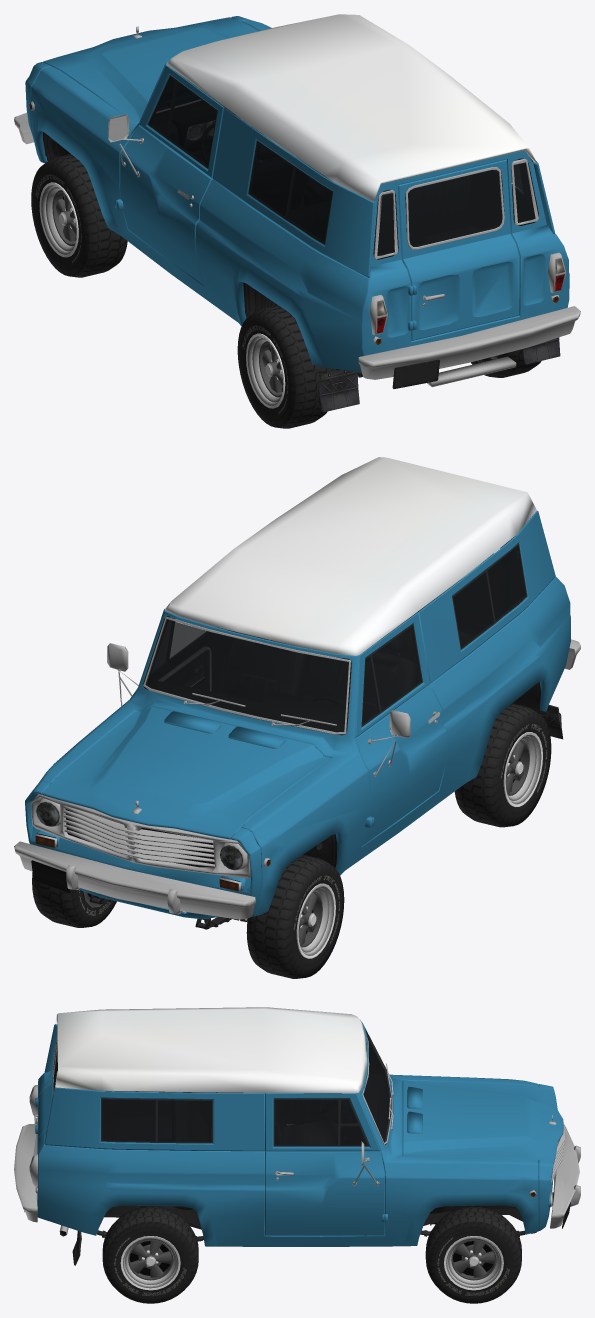
Rendered from car3_wagon_60s.glb.
3 renders of one model, top to bottom at view 1: azimuth 30°, elevation 25°; view 2: azimuth 150°, elevation 25°; view 3: azimuth 270°, elevation 25°, orthographic. The views are drawn at different scales.
Parts seen in each view (by area): view 1: Bokaroo67_Body_BUCKAROO_67_Bodymat_0, Bokaroo67_Bottom_UCB_BOTTOM_0, Bokaroo67_Interior_UCB_Interiors_2_0, Bokaroo67_Hood_BUCKAROO_67_Bodymat_0, Bokaroo67_WheelStock_RL_RO1a_Tire_0, Bokaroo67_WheelStock_FL_RO1a_Tire_0, Bokaroo67_Bodyglass_UCB_Lights_and_Glass_Transperent_0, Bokaroo67_Bumper_rear_UCB_BOTTOM_0, Bokaroo67_rear_door_glass_UCB_Lights_and_Glass_Transperent_0, Bokaroo67_Glass_Driver_UCB_Lights_and_Glass_Transperent_0, Bokaroo67_rear_door_inner_UCB_BOTTOM_0, Bokaroo67_WheelStock_RR_RO1a_Tire_0; view 2: Bokaroo67_Bottom_UCB_BOTTOM_0, Bokaroo67_Body_BUCKAROO_67_Bodymat_0, Bokaroo67_Hood_BUCKAROO_67_Bodymat_0, Bokaroo67_Interior_UCB_Interiors_2_0, Bokaroo67_Windshield_UCB_Lights_and_Glass_Transperent_0, Bokaroo67_WheelStock_FL_RO1a_Tire_0, Bokaroo67_WheelStock_RL_RO1a_Tire_0, Bokaroo67_Bumper_Front_UCB_BOTTOM_0, Bokaroo67_Bodyglass_UCB_Lights_and_Glass_Transperent_0, Bokaroo67_Glass_Driver_UCB_Lights_and_Glass_Transperent_0, Bokaroo67_rear_door_doorcard_UCB_Interiors_2_0, Bokaroo67_WheelStock_FR_RO1a_Tire_0 (+1 smaller); view 3: Bokaroo67_Body_BUCKAROO_67_Bodymat_0, Bokaroo67_Bottom_UCB_BOTTOM_0, Bokaroo67_Hood_BUCKAROO_67_Bodymat_0, Bokaroo67_Interior_UCB_Interiors_2_0, Bokaroo67_WheelStock_RR_RO1a_Tire_0, Bokaroo67_WheelStock_FR_RO1a_Tire_0, Bokaroo67_Bodyglass_UCB_Lights_and_Glass_Transperent_0, Bokaroo67_Glass_Passenger_UCB_Lights_and_Glass_Transperent_0, Bokaroo67_Bumper_Front_UCB_BOTTOM_0, Bokaroo67_Windshield_UCB_Lights_and_Glass_Transperent_0, Bokaroo67_Bumper_rear_UCB_BOTTOM_0.
Part boxes in pixels (x1,y1,x2,y2): Bokaroo67_Body_BUCKAROO_67_Bodymat_0: (25, 16, 569, 372); Bokaroo67_Bottom_UCB_BOTTOM_0: (29, 14, 566, 412); Bokaroo67_Interior_UCB_Interiors_2_0: (151, 101, 538, 259); Bokaroo67_Hood_BUCKAROO_67_Bodymat_0: (43, 17, 258, 123); Bokaroo67_WheelStock_RL_RO1a_Tire_0: (237, 305, 333, 428); Bokaroo67_WheelStock_FL_RO1a_Tire_0: (31, 154, 127, 277); Bokaroo67_Bodyglass_UCB_Lights_and_Glass_Transperent_0: (149, 77, 535, 255); Bokaroo67_Bumper_rear_UCB_BOTTOM_0: (358, 306, 580, 388); Bokaroo67_rear_door_glass_UCB_Lights_and_Glass_Transperent_0: (408, 170, 502, 246); Bokaroo67_Glass_Driver_UCB_Lights_and_Glass_Transperent_0: (168, 82, 216, 166); Bokaroo67_rear_door_inner_UCB_BOTTOM_0: (403, 167, 504, 306); Bokaroo67_WheelStock_RR_RO1a_Tire_0: (471, 349, 541, 377); Bokaroo67_Bottom_UCB_BOTTOM_0: (30, 457, 562, 912); Bokaroo67_Body_BUCKAROO_67_Bodymat_0: (25, 510, 570, 919); Bokaroo67_Hood_BUCKAROO_67_Bodymat_0: (42, 706, 330, 839); Bokaroo67_Interior_UCB_Interiors_2_0: (143, 516, 532, 735); Bokaroo67_Windshield_UCB_Lights_and_Glass_Transperent_0: (145, 619, 348, 732); Bokaroo67_WheelStock_FL_RO1a_Tire_0: (246, 854, 344, 978); Bokaroo67_WheelStock_RL_RO1a_Tire_0: (454, 703, 551, 827); Bokaroo67_Bumper_Front_UCB_BOTTOM_0: (14, 841, 255, 919); Bokaroo67_Bodyglass_UCB_Lights_and_Glass_Transperent_0: (152, 545, 526, 724); Bokaroo67_Glass_Driver_UCB_Lights_and_Glass_Transperent_0: (372, 625, 421, 710); Bokaroo67_rear_door_doorcard_UCB_Interiors_2_0: (418, 542, 508, 633); Bokaroo67_WheelStock_FR_RO1a_Tire_0: (32, 872, 116, 927); Bokaroo67_Body_BUCKAROO_67_Bodymat_0: (35, 1020, 553, 1246); Bokaroo67_Bottom_UCB_BOTTOM_0: (24, 1007, 564, 1265); Bokaroo67_Hood_BUCKAROO_67_Bodymat_0: (402, 1080, 563, 1162); Bokaroo67_Interior_UCB_Interiors_2_0: (55, 1037, 388, 1164); Bokaroo67_WheelStock_RR_RO1a_Tire_0: (102, 1206, 198, 1303); Bokaroo67_WheelStock_FR_RO1a_Tire_0: (425, 1206, 521, 1303); Bokaroo67_Bodyglass_UCB_Lights_and_Glass_Transperent_0: (53, 1040, 367, 1145); Bokaroo67_Glass_Passenger_UCB_Lights_and_Glass_Transperent_0: (275, 1100, 338, 1145); Bokaroo67_Bumper_Front_UCB_BOTTOM_0: (550, 1124, 580, 1228); Bokaroo67_Windshield_UCB_Lights_and_Glass_Transperent_0: (363, 1028, 391, 1142); Bokaroo67_Bumper_rear_UCB_BOTTOM_0: (14, 1124, 37, 1222).
Size of the model in its own units: 2.41 by 2.13 by 4.99.
Materials: 6 (5 with a texture image).
